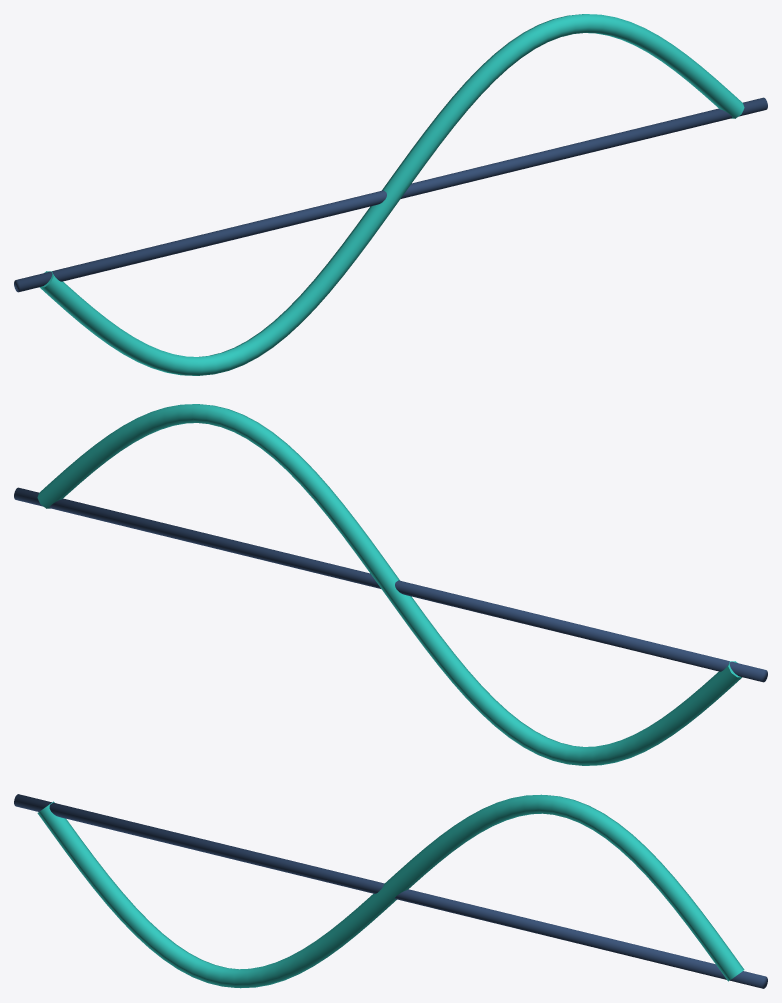
The model's file is sine-curve-lite.glb.
3 views of the same model, one above another, from view 1: azimuth 30°, elevation 25°; view 2: azimuth 150°, elevation 25°; view 3: azimuth 330°, elevation 25° (orthographic).
Parts seen in each view (by area): view 1: Axis; view 2: Axis; view 3: Axis.
Boxes of the visible parts, x1,y1,x2,y2 form: Axis: (14,14,767,375); Axis: (14,404,767,765); Axis: (14,794,767,988).
Bounding box in the file's own units: 3.4 × 1.18 × 0.08.
